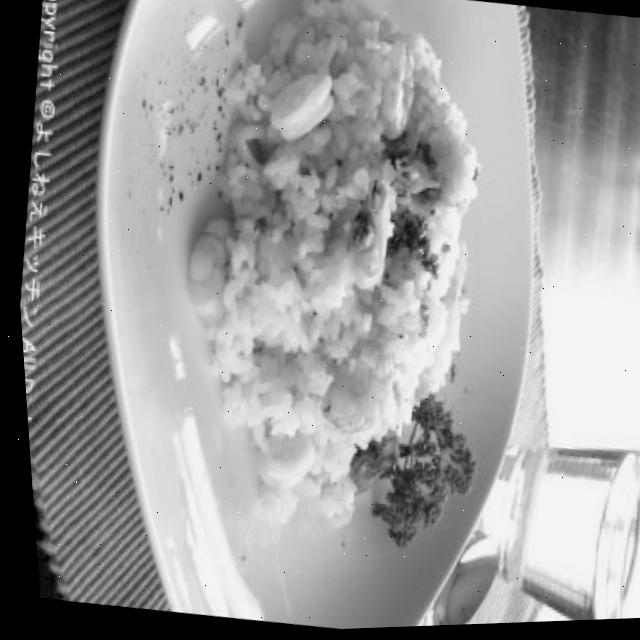米饭主食: (22, 0, 593, 639)
